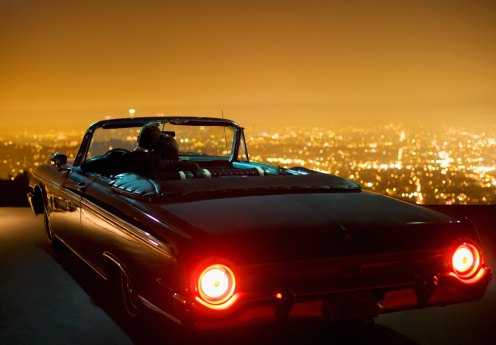car: (24, 109, 493, 337)
